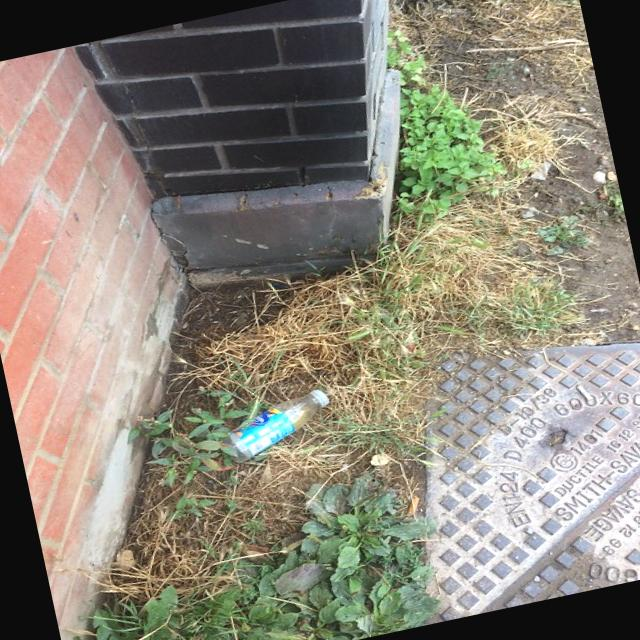Recycle: (210, 386, 342, 466)
